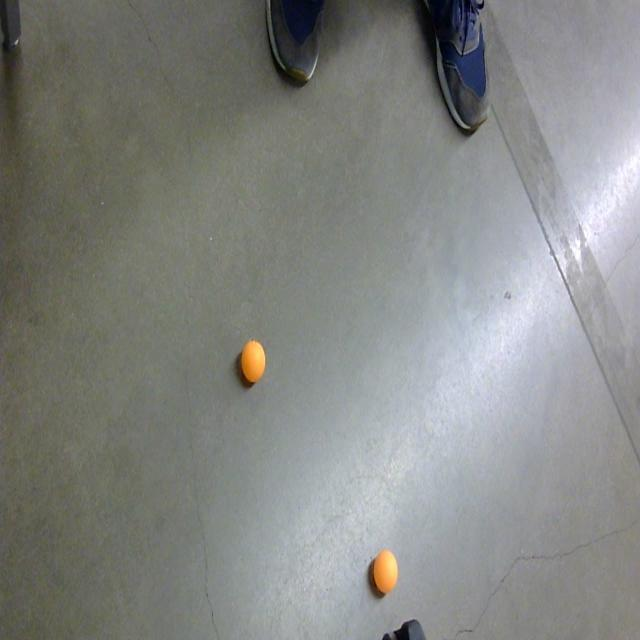ball: (372, 547, 399, 599), (239, 338, 266, 387)
